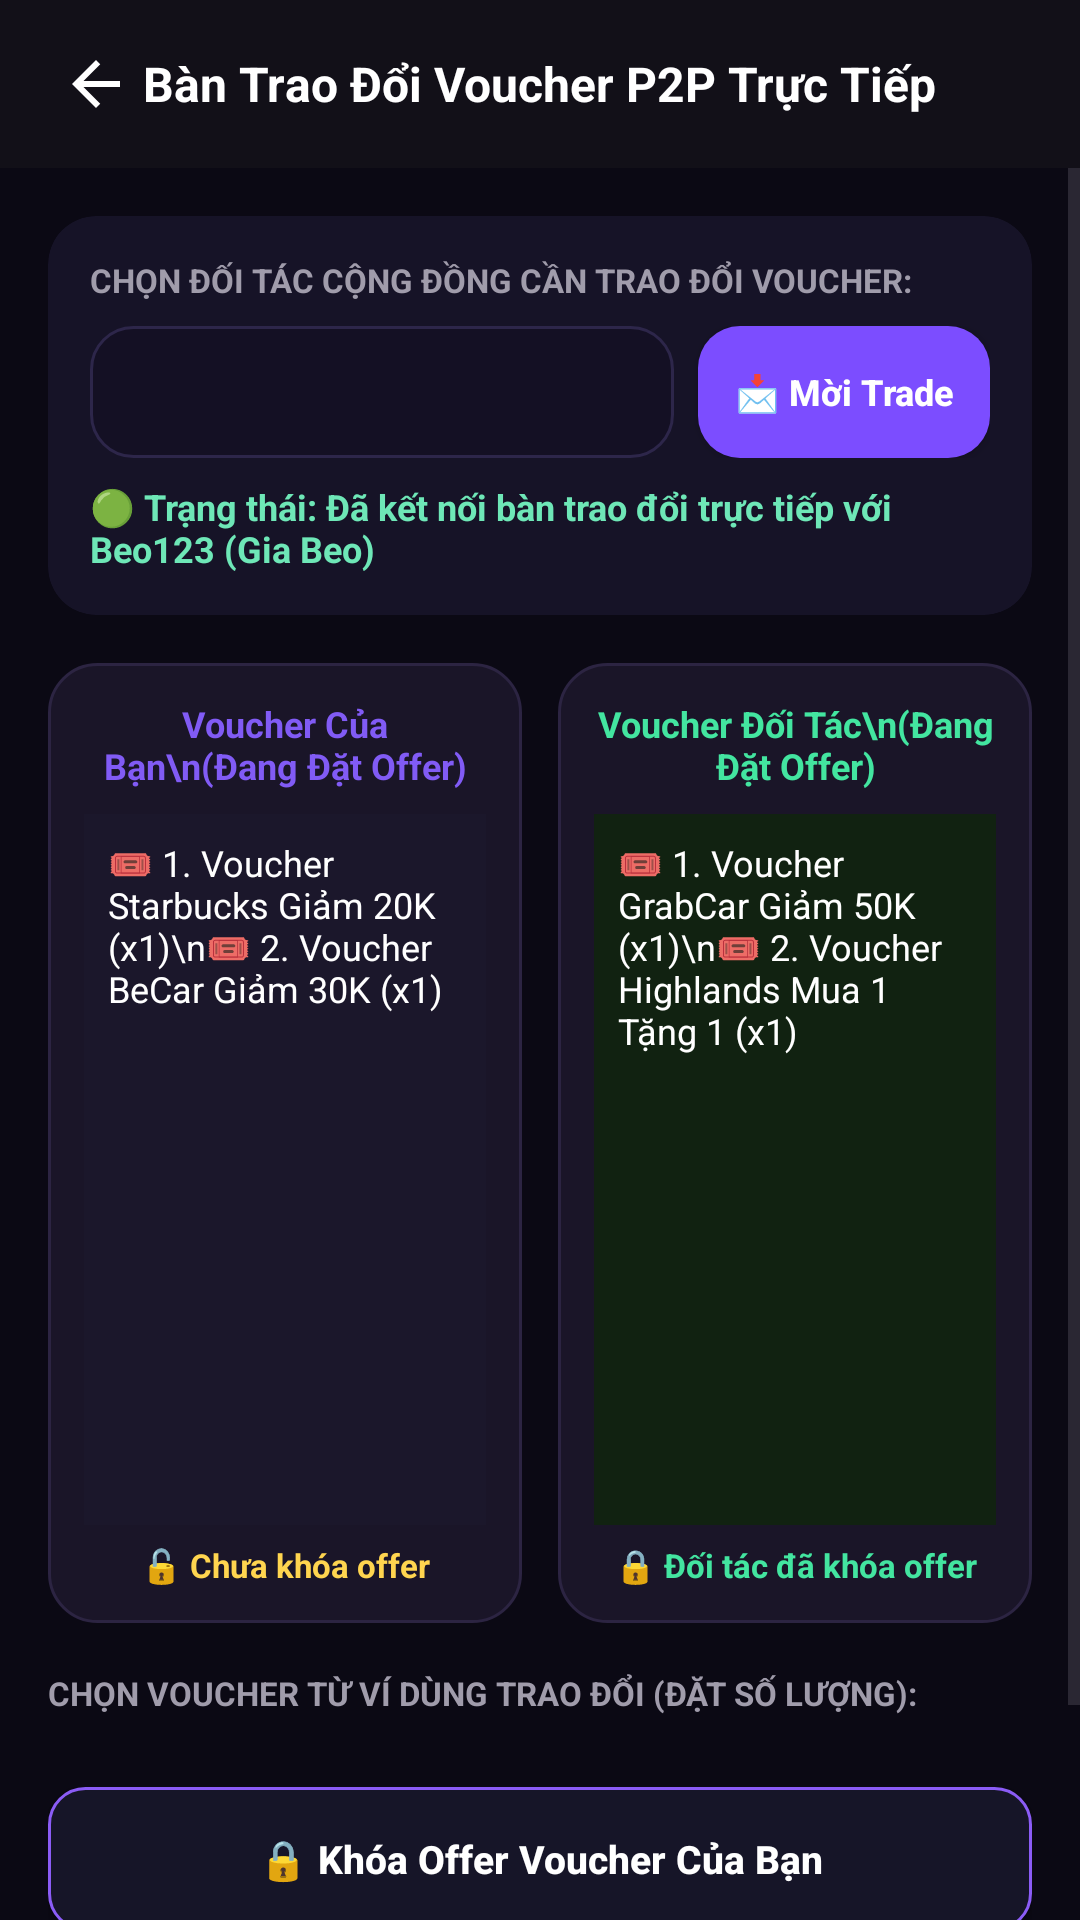

Named icons in this screenshot (1080 × 1920) and their bounding boxes, (x1, y1, x2, y2):
Quay lại: (72, 60, 120, 108)
